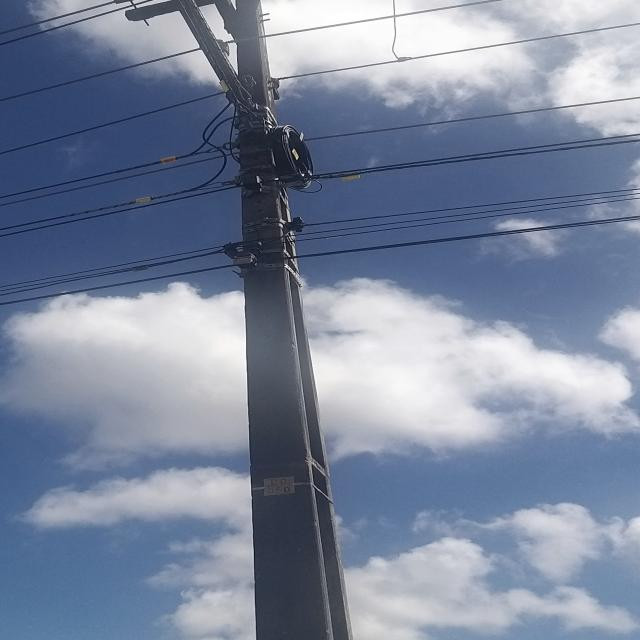Plaqueta: (233, 256, 251, 264)
